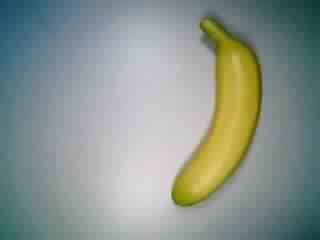banana: (169, 13, 265, 205)
